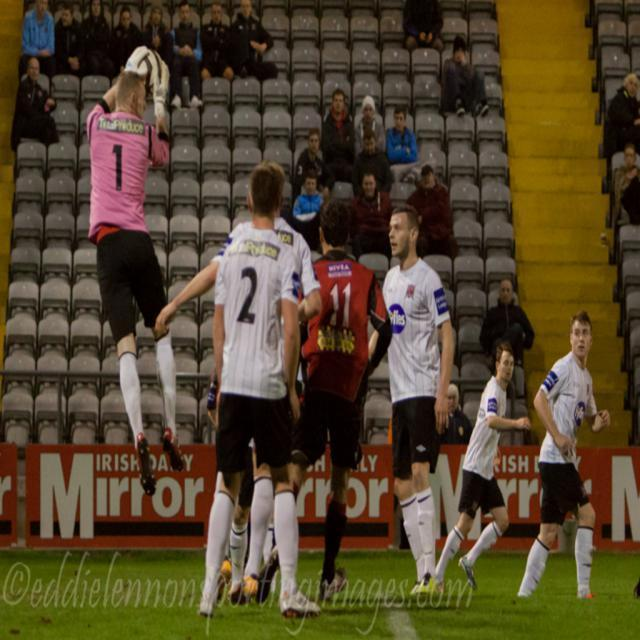ball: (122, 42, 165, 100)
